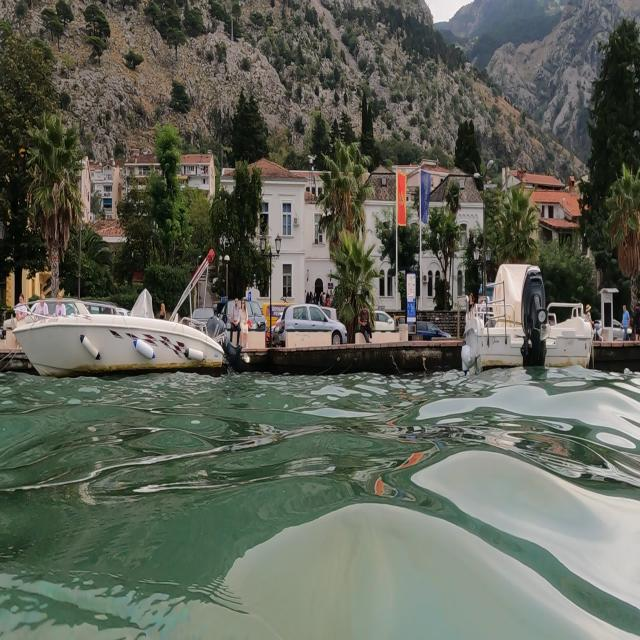boat: (11, 246, 228, 380), (452, 249, 600, 393)
